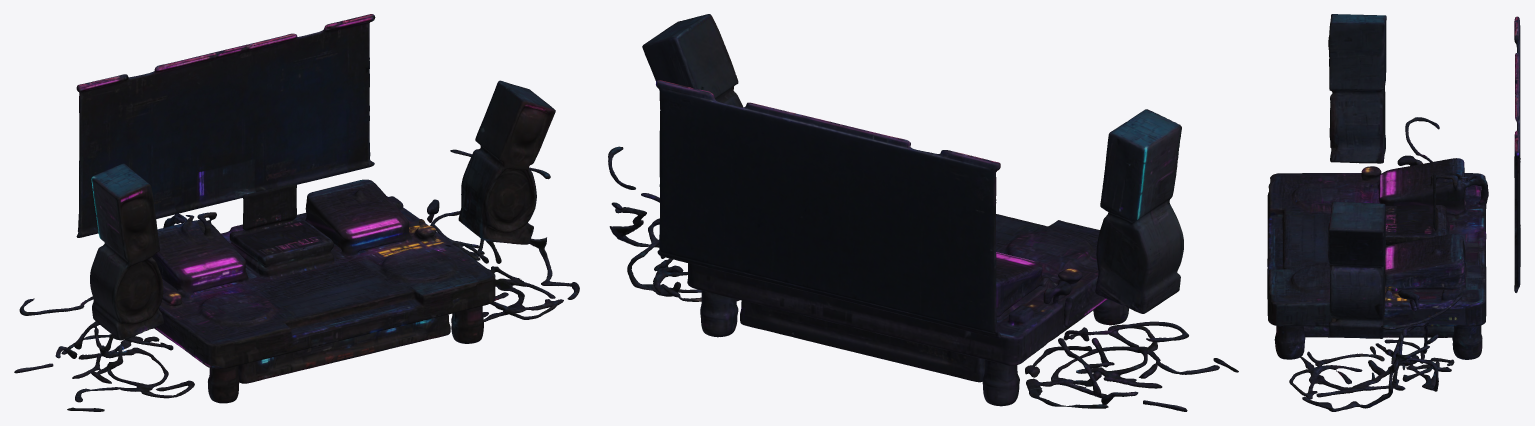
The model's file is cyberpunk_music_0304144534_texture.glb.
3 views of the same model, side by side, from view 1: azimuth 30°, elevation 25°; view 2: azimuth 150°, elevation 25°; view 3: azimuth 270°, elevation 25° (orthographic). The views are drawn at different scales.
Bounding box in the file's own units: 2 × 0.8535 × 0.9063.
Materials: 1 (1 with a texture image).
